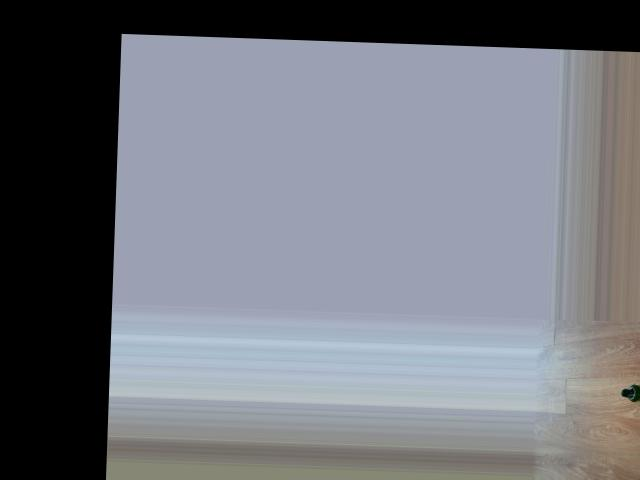beer: (621, 384, 640, 403)
